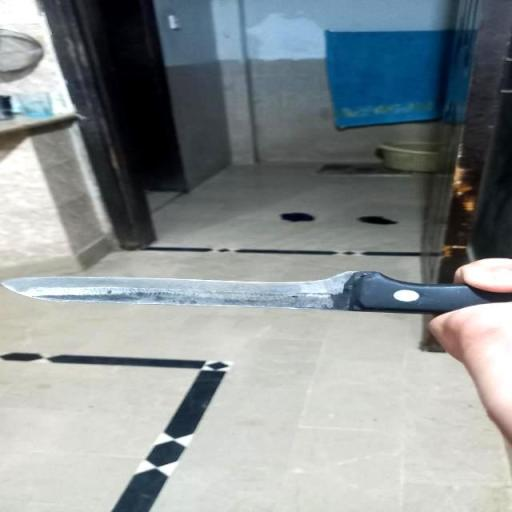knife: (3, 271, 512, 324)
